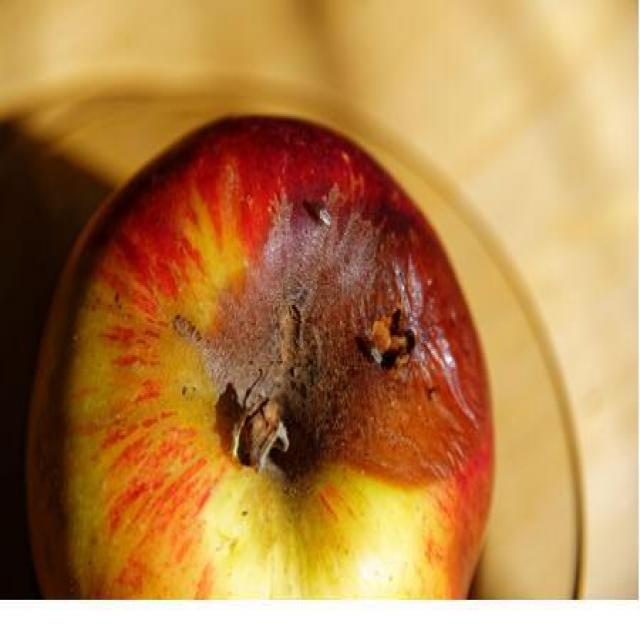Rotten: (29, 120, 499, 610)
